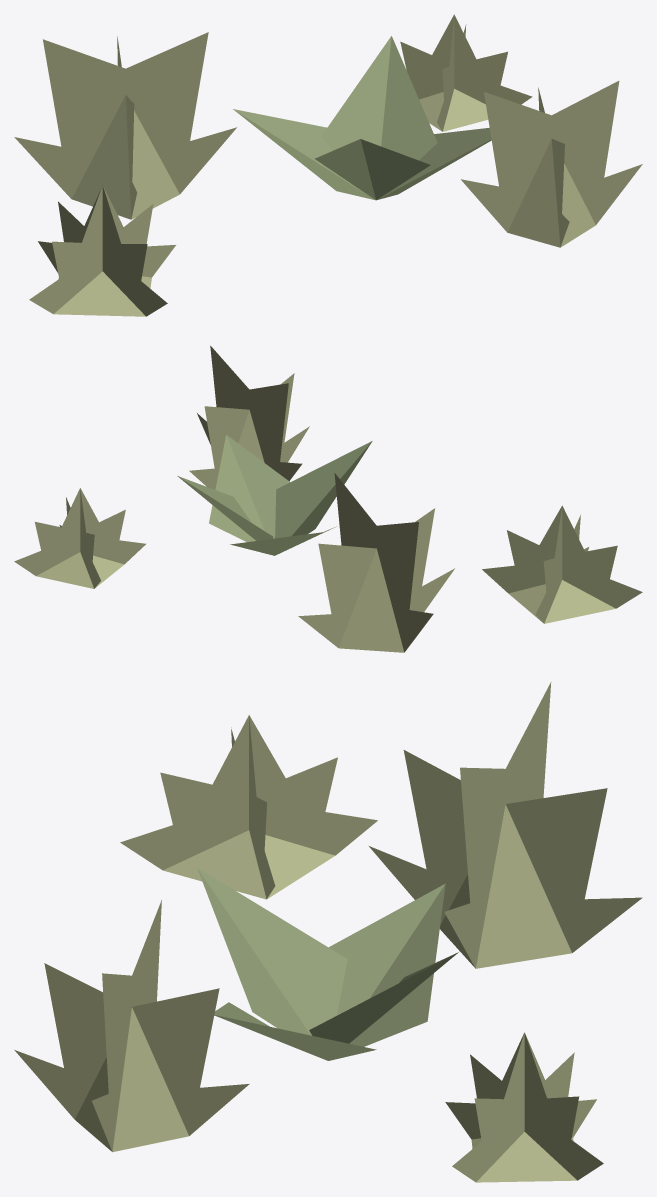
The model's file is dry-plant-set.glb.
3 views of the same model, one above another, from view 1: azimuth 30°, elevation 25°; view 2: azimuth 150°, elevation 25°; view 3: azimuth 270°, elevation 25° (orthographic). The views are drawn at different scales.
Parts seen in each view (by area): view 1: dry_plant_02_00, dry_plant_08_00, dry_plant_04_00, dry_plant_00_00, dry_plant_06_00; view 2: dry_plant_02_00, dry_plant_04_00, dry_plant_00_00, dry_plant_08_00, dry_plant_06_00; view 3: dry_plant_02_00, dry_plant_04_00, dry_plant_08_00, dry_plant_00_00, dry_plant_06_00.
Part boxes in pixels (x1=…): dry_plant_02_00: x1=14, y1=32, x2=236, y2=219; dry_plant_08_00: x1=461, y1=81, x2=642, y2=247; dry_plant_04_00: x1=233, y1=36, x2=491, y2=200; dry_plant_00_00: x1=29, y1=185, x2=175, y2=316; dry_plant_06_00: x1=400, y1=14, x2=532, y2=131; dry_plant_02_00: x1=298, y1=473, x2=454, y2=652; dry_plant_04_00: x1=177, y1=435, x2=372, y2=555; dry_plant_00_00: x1=482, y1=505, x2=642, y2=623; dry_plant_08_00: x1=189, y1=345, x2=309, y2=489; dry_plant_06_00: x1=14, y1=488, x2=145, y2=588; dry_plant_02_00: x1=369, y1=682, x2=642, y2=968; dry_plant_04_00: x1=197, y1=867, x2=458, y2=1060; dry_plant_08_00: x1=14, y1=900, x2=249, y2=1152; dry_plant_00_00: x1=120, y1=715, x2=377, y2=899; dry_plant_06_00: x1=445, y1=1032, x2=603, y2=1182.
Size of the model in its own units: 2.88 by 0.7534 by 1.99.
